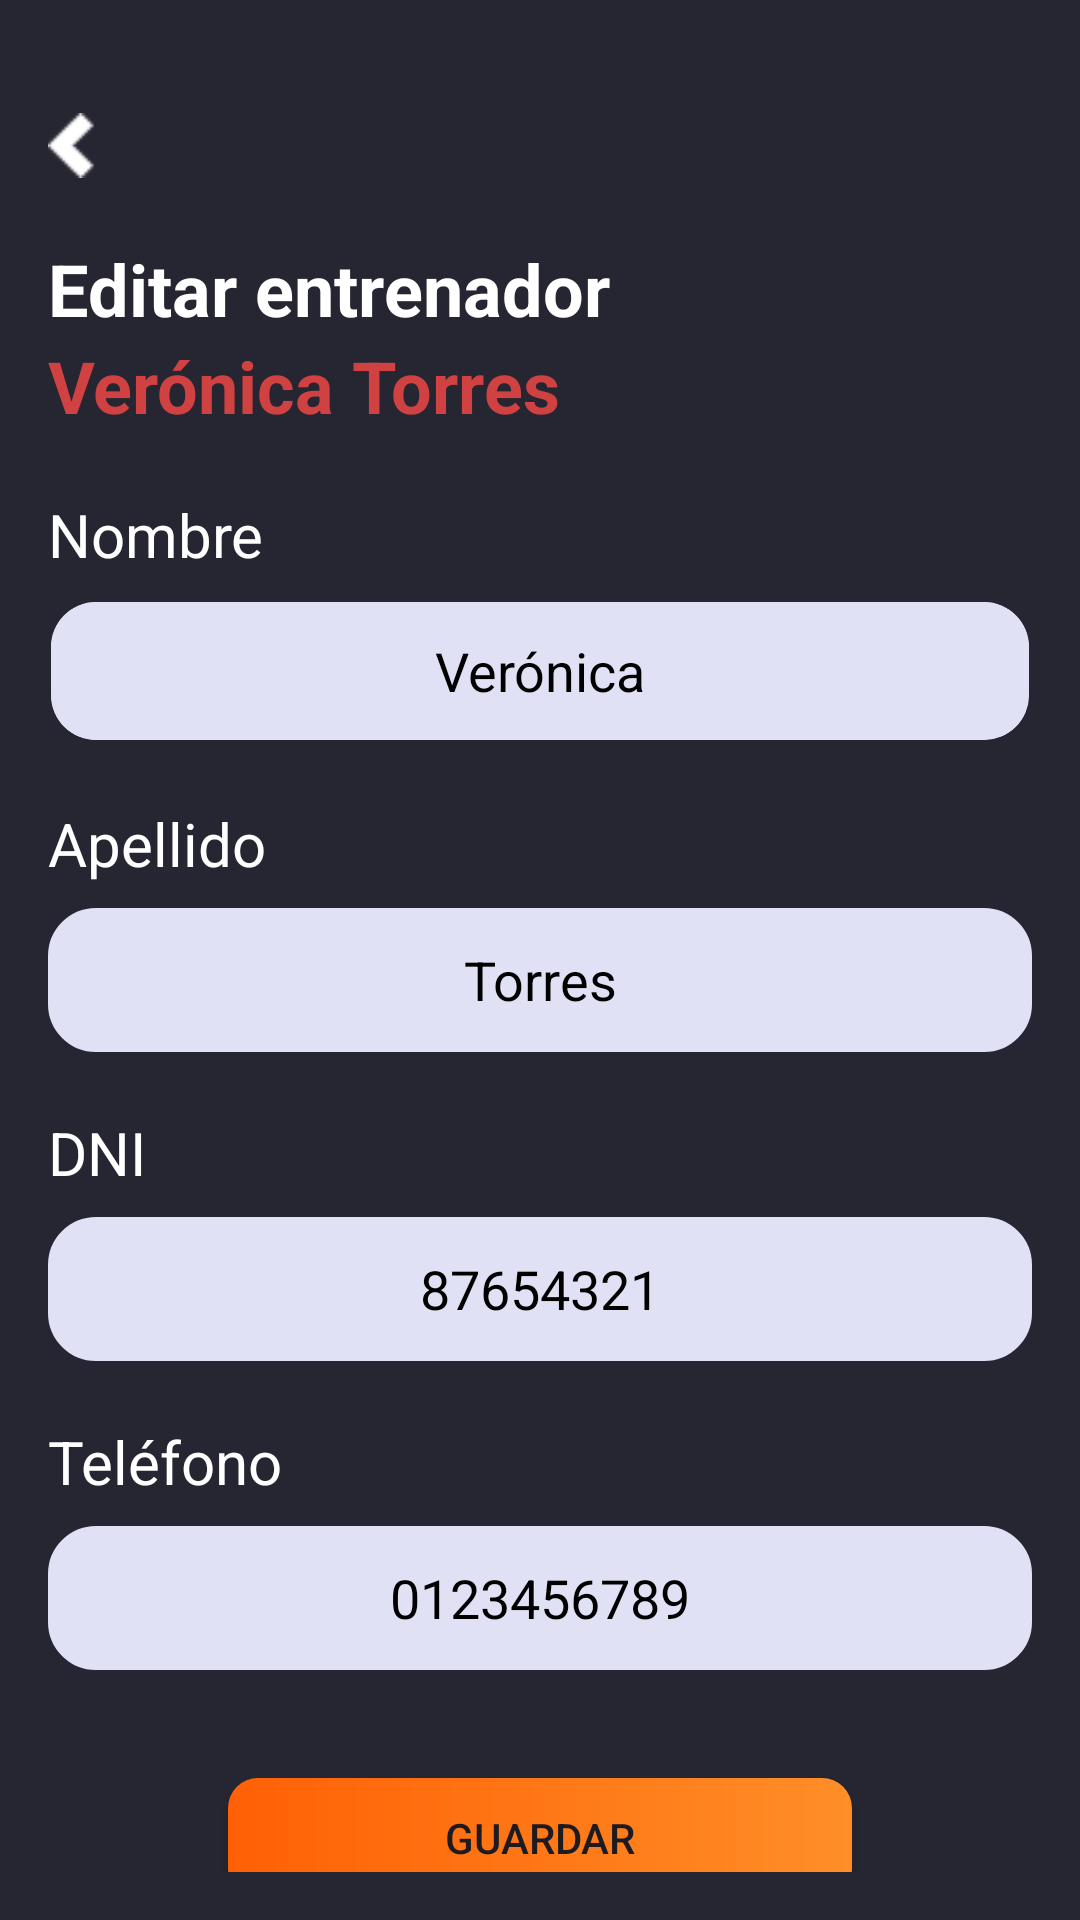

Icon click points for this 1080px x 1920px phone screenshot, format point (x, y):
flecha volver: point (71, 145)
